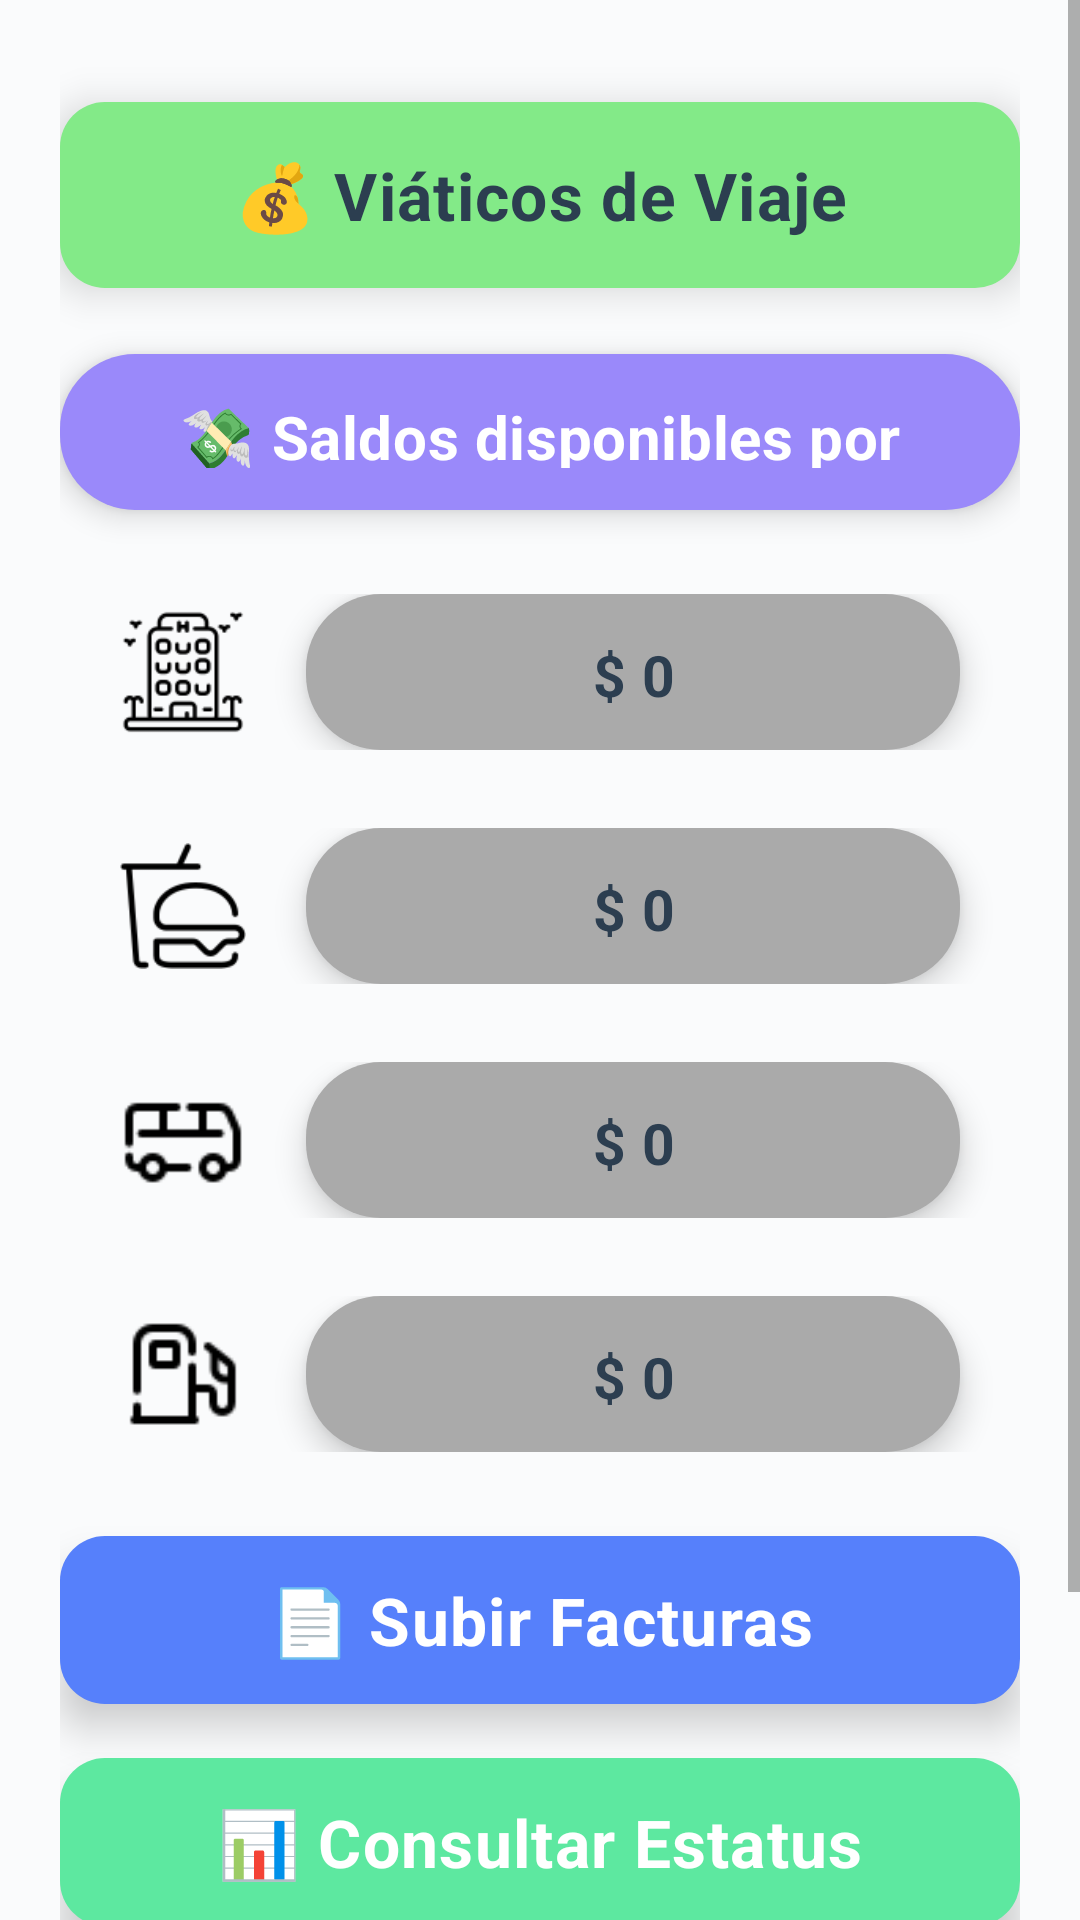

Screen size 1080*1920. Icon name, then its box in pixels as (x1, y1, x2, y2):
comida: (120, 843, 246, 969)
gasolina: (129, 1323, 237, 1425)
hotel: (123, 612, 243, 732)
transporte: (124, 1102, 242, 1183)
